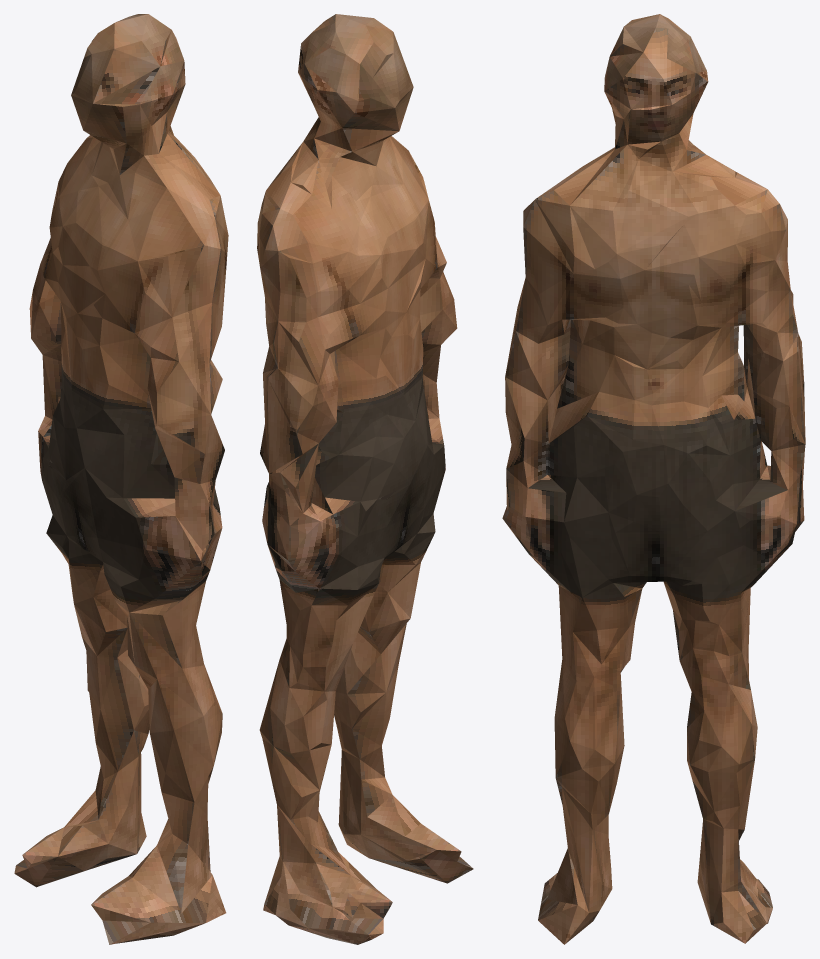
Rendered from hombre_3.glb.
3 views of the same model, side by side, from view 1: azimuth 30°, elevation 25°; view 2: azimuth 150°, elevation 25°; view 3: azimuth 270°, elevation 25° (orthographic). The views are drawn at different scales.
Visible parts, largest first — view 1: personaje.base.cuerpo_comun; view 2: personaje.base.cuerpo_comun; view 3: personaje.base.cuerpo_comun.
Part boxes in pixels (<box>): personaje.base.cuerpo_comun: <box>14,14,228,944</box>; personaje.base.cuerpo_comun: <box>257,14,473,944</box>; personaje.base.cuerpo_comun: <box>502,14,805,944</box>.
Size of the model in its own units: 0.2879 by 1.7 by 0.5138.
Materials: 1 (1 with a texture image).
